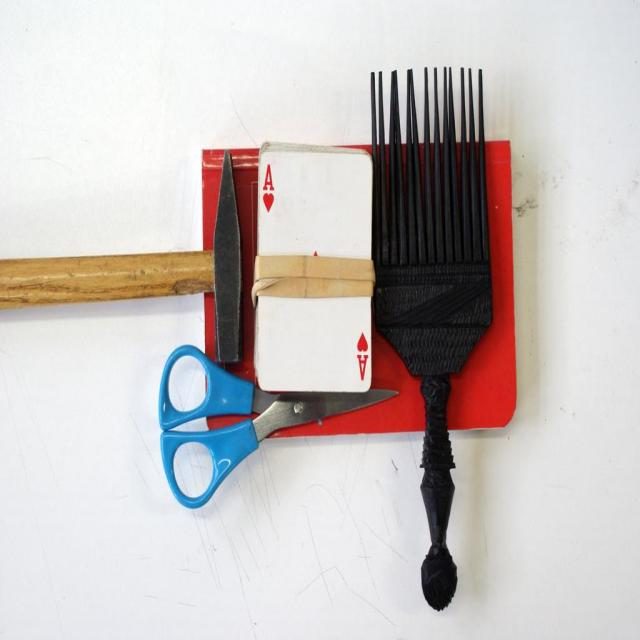scissor: (158, 342, 398, 506)
